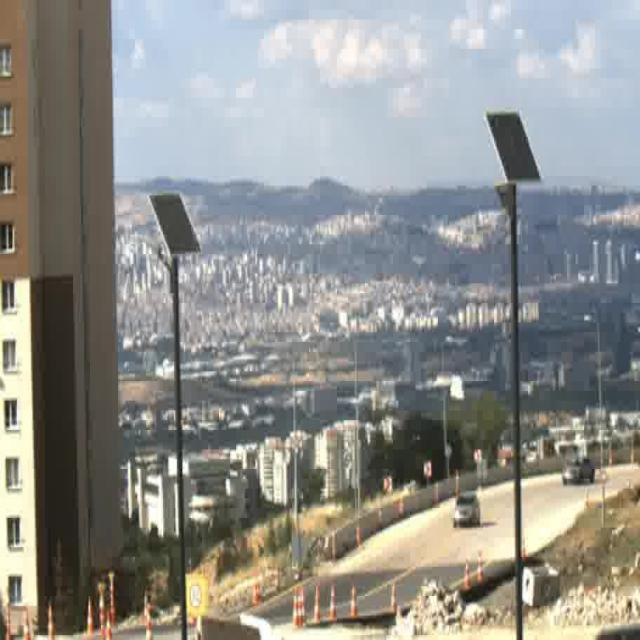Car: (452, 493, 481, 529), (562, 459, 594, 484)
